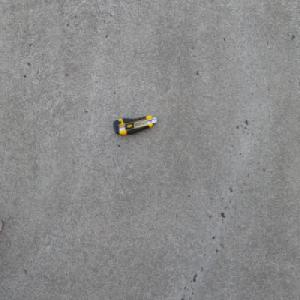Cutter: (112, 115, 157, 135)
